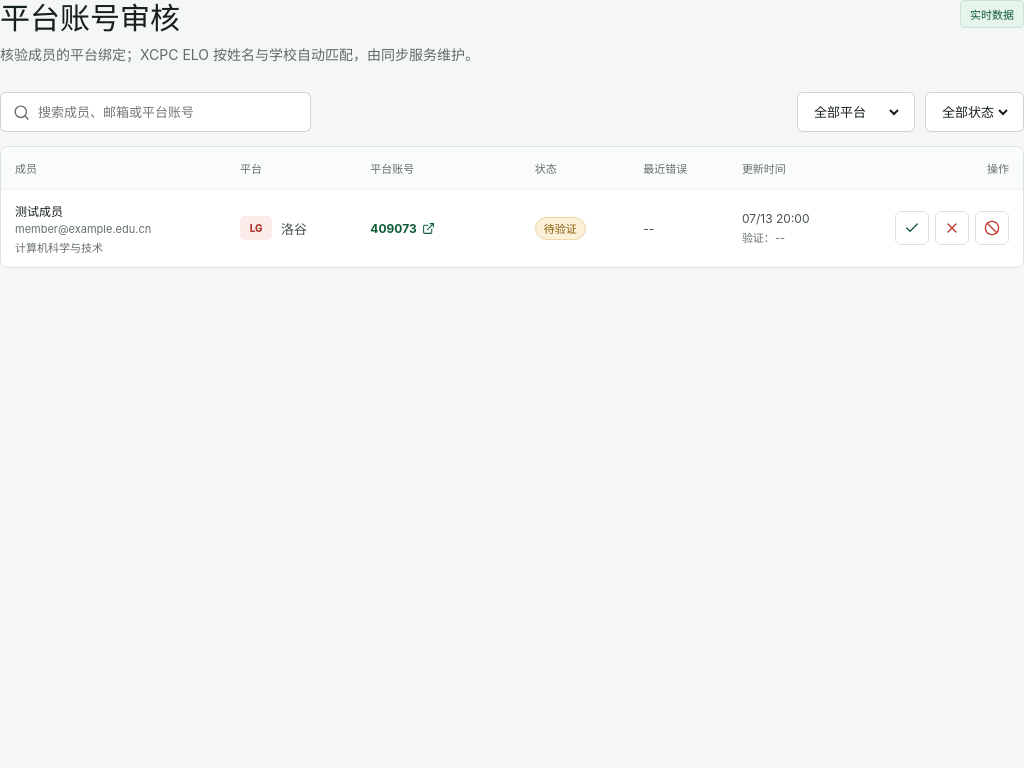
Test: AdminAccountsPage with Supabase configured › traps invalid-dialog focus and restores the opening control after Escape
Expected: the row "测试成员" is shown, [1,189,1023,267]
Click the button named "标记 测试成员 的 洛谷 账号无效".
click(952, 228)  # box [935,211,969,245]
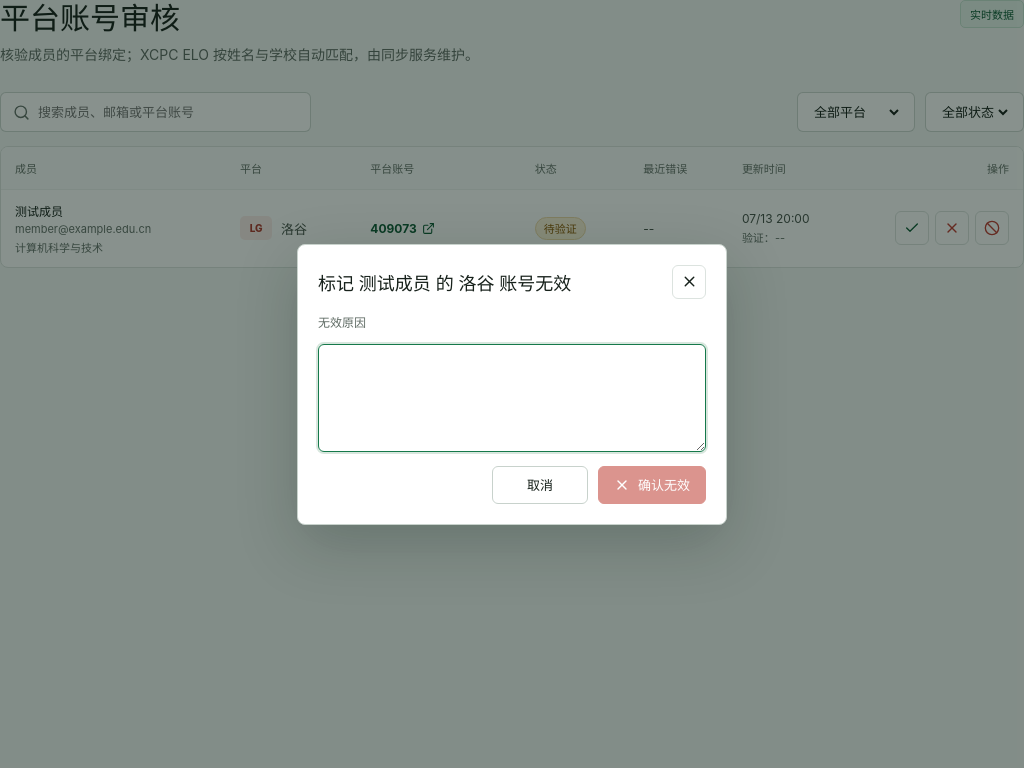
Type "测试原因" into the text box labelled "无效原因".
click(512, 398); type("测试原因")  # box [318,344,706,452]
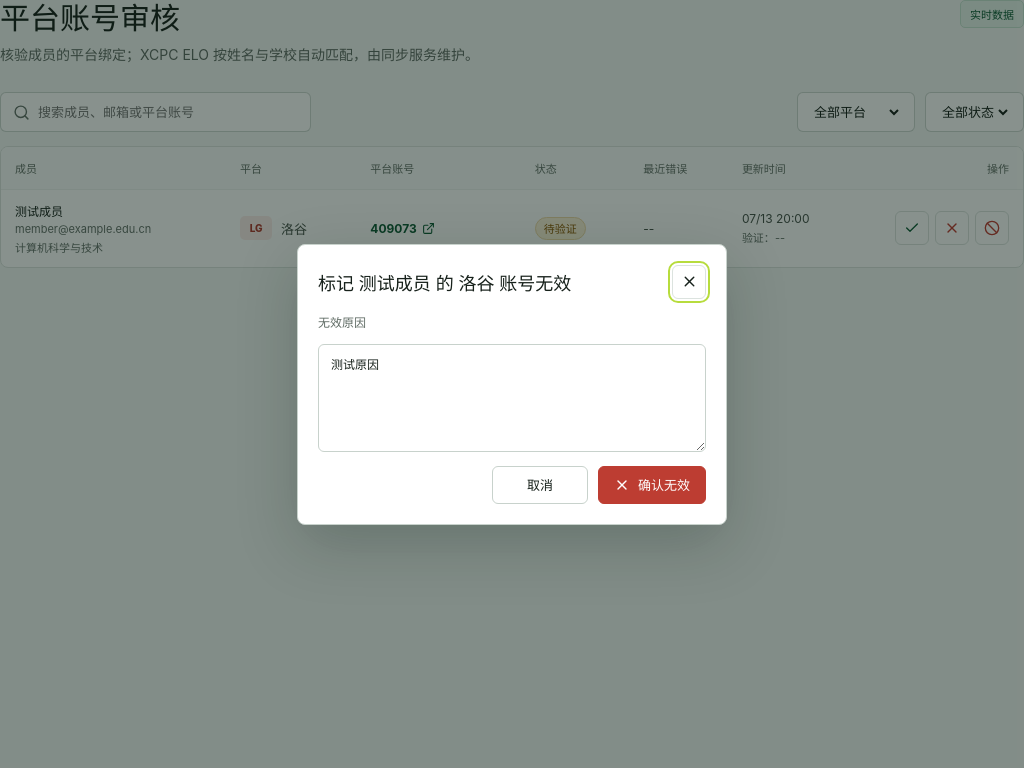
Press Shift+Tab
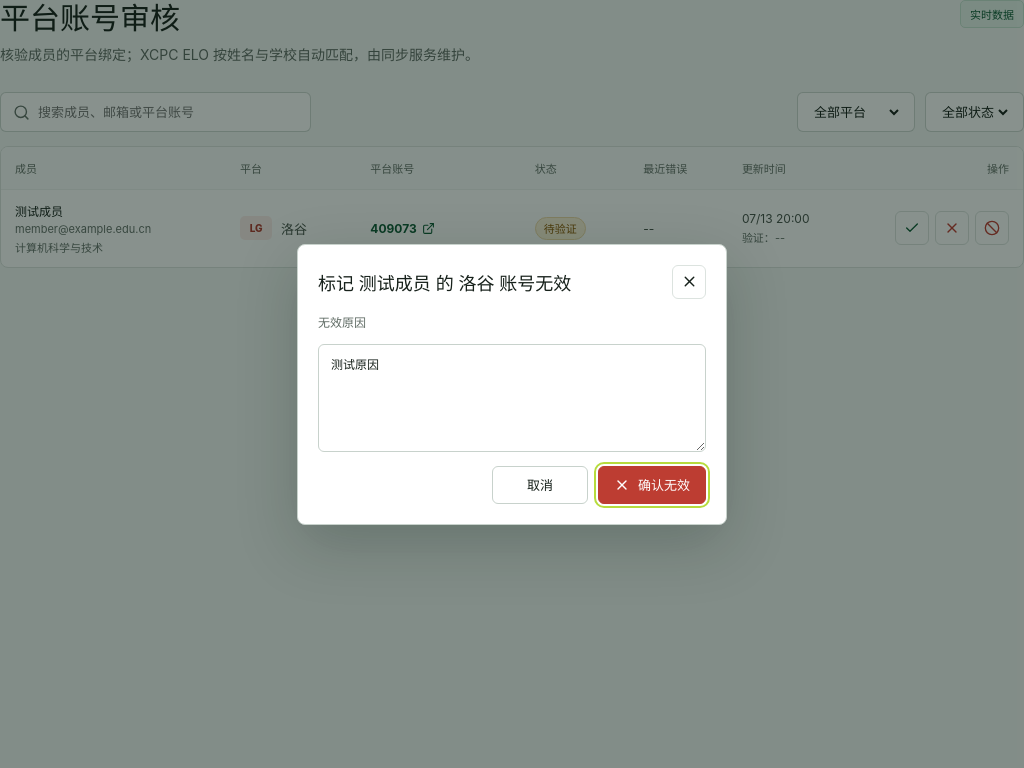
Press Tab
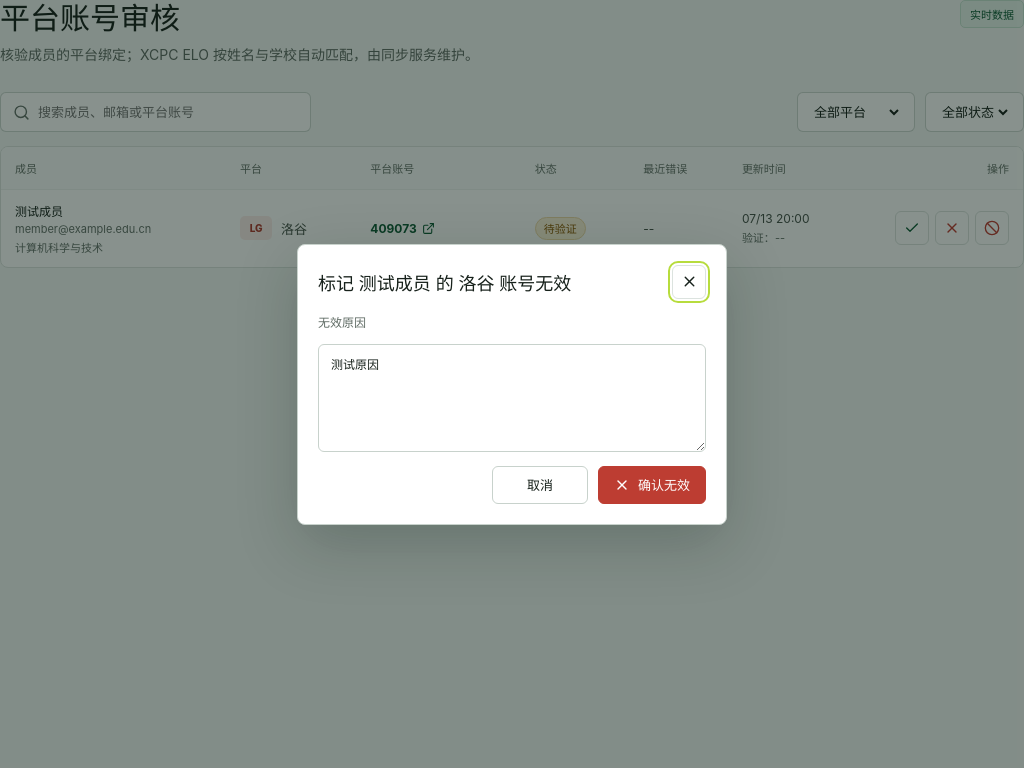
Press Escape
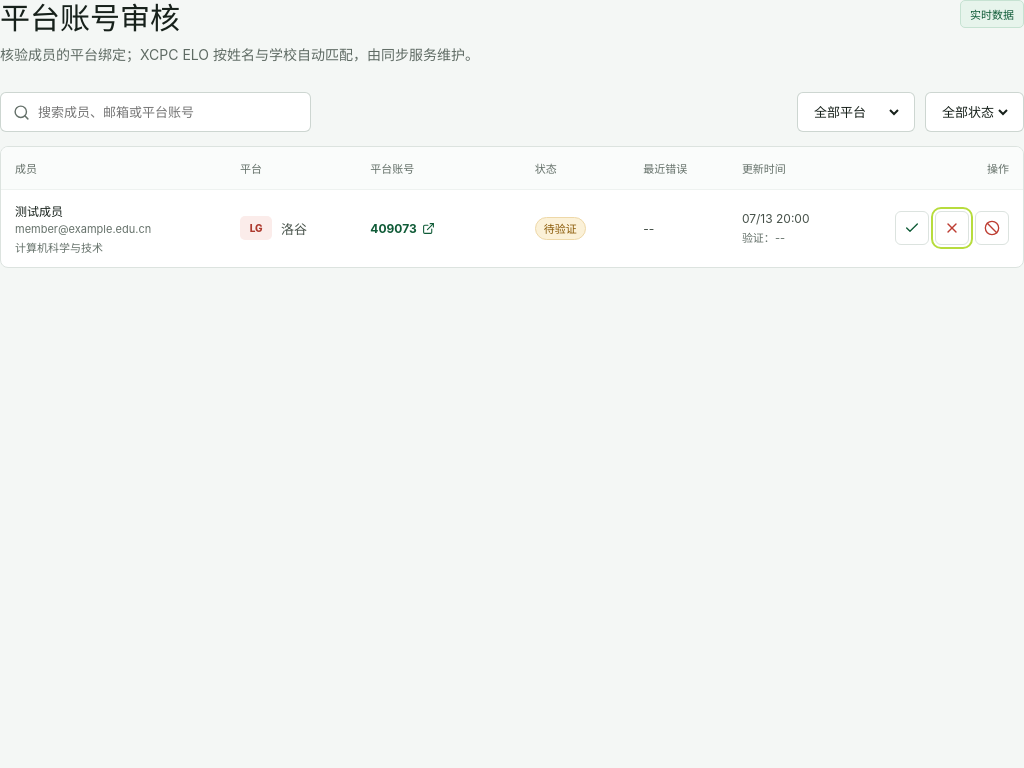
Expected: the dialog is gone
